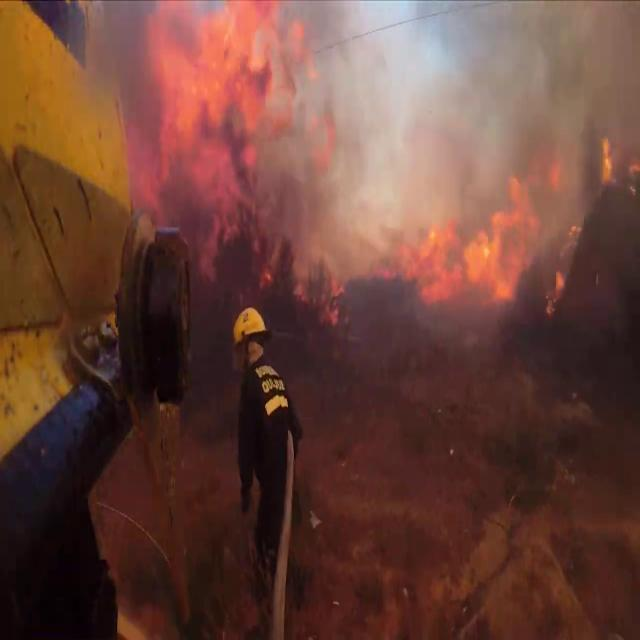Fire: (144, 2, 316, 168), (408, 177, 536, 310)
Smoke: (106, 0, 639, 317)
